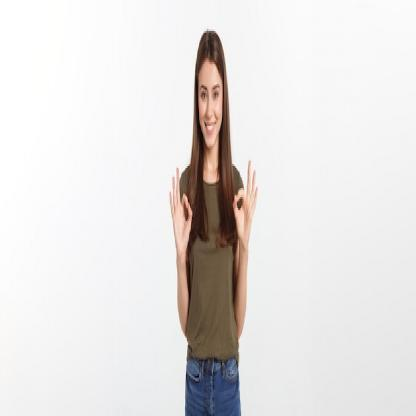ok: (168, 163, 196, 265), (232, 152, 260, 253)
